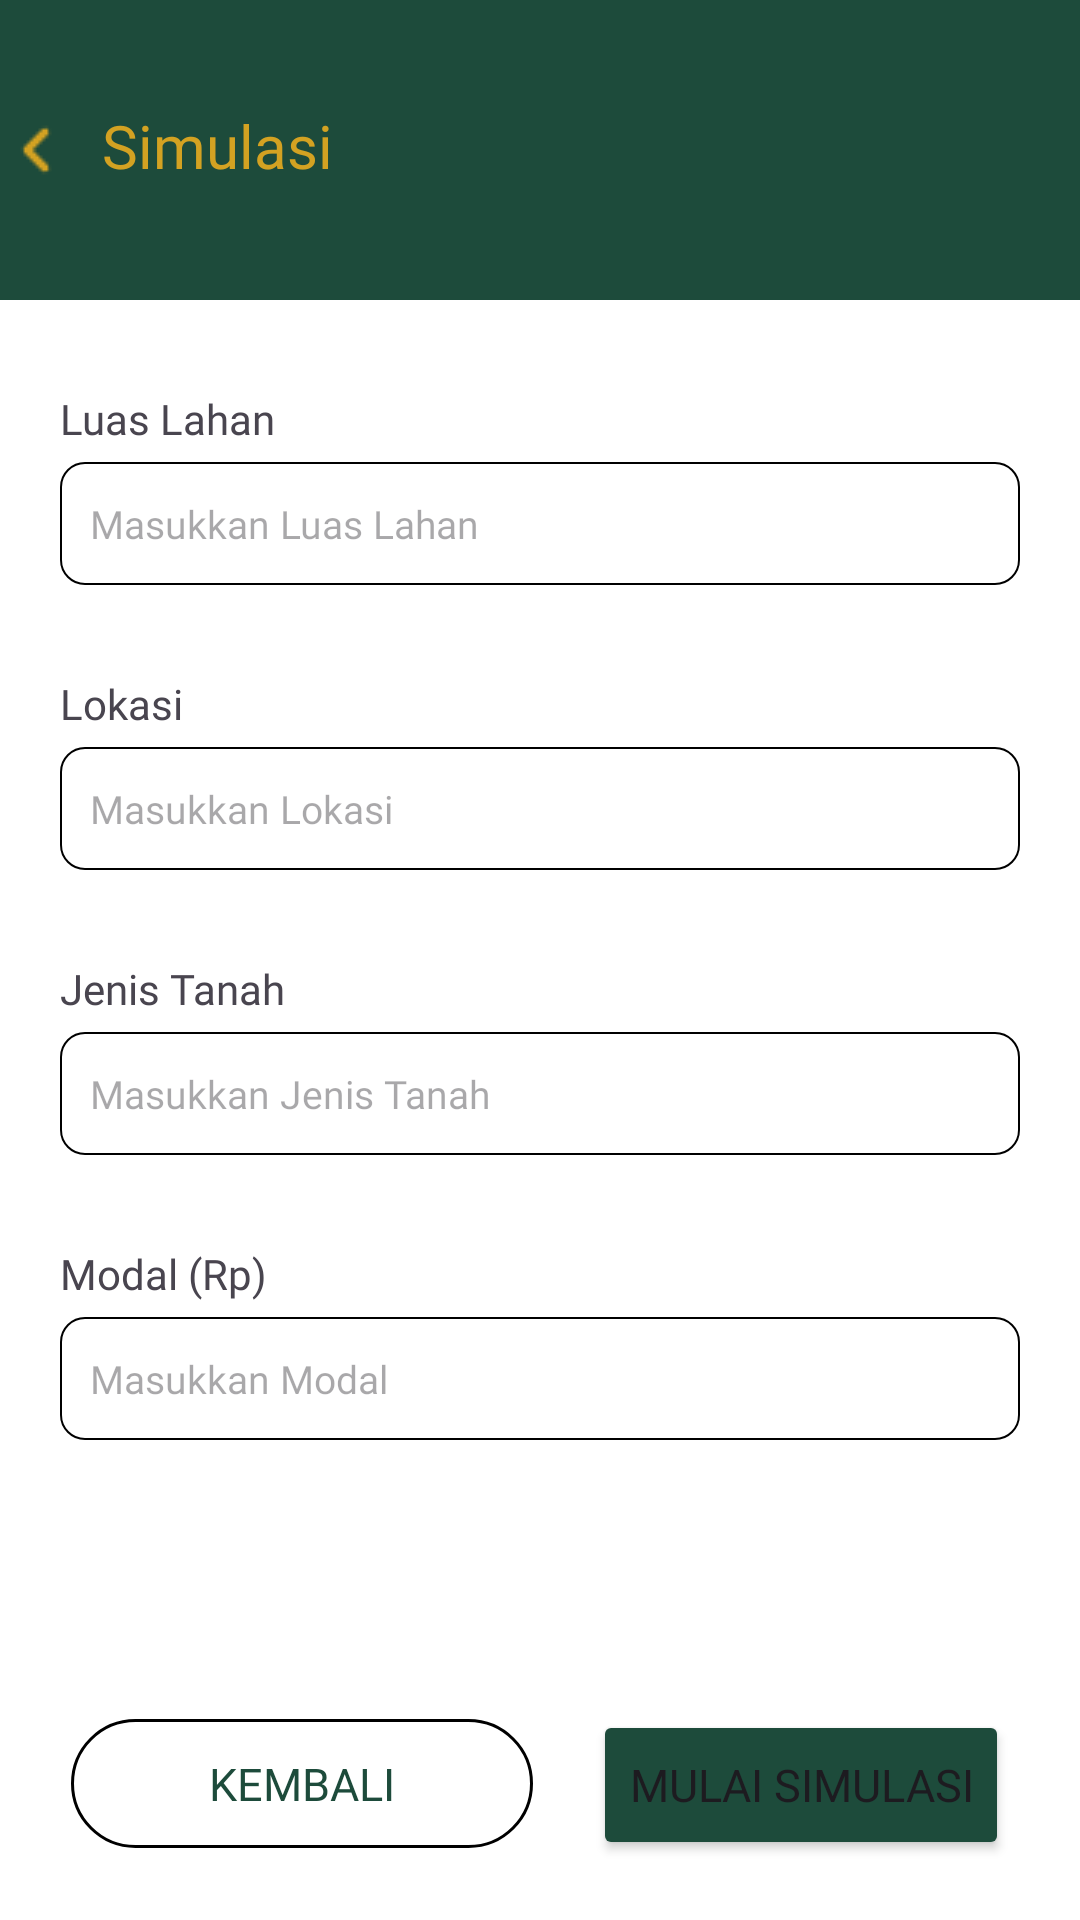

Where icons sit on this 1080×1920 app screen, as (x1, y1, x2, y2):
kembali: (23, 128, 49, 172)
